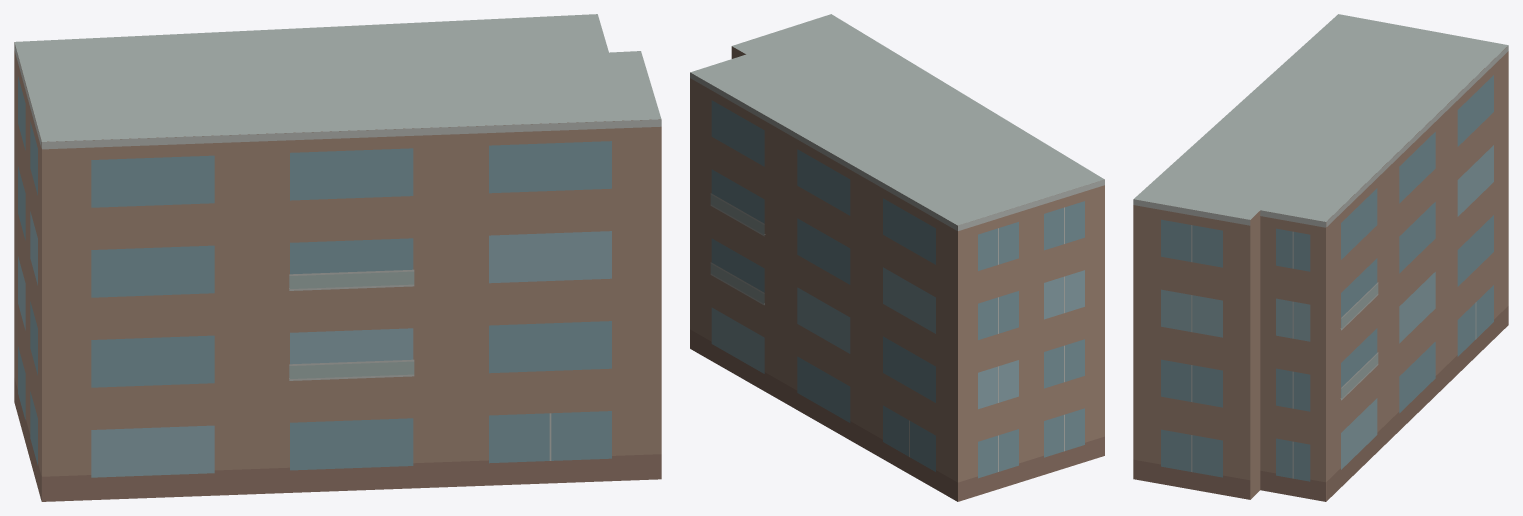
Rendered from survey-upis-32488505.glb.
3 renders of one model, left to right at view 1: azimuth 30°, elevation 25°; view 2: azimuth 150°, elevation 25°; view 3: azimuth 270°, elevation 25°, orthographic. The views are drawn at different scales.
Parts seen in each view (by area): view 1: survey-upis-32488505.tmp; view 2: survey-upis-32488505.tmp; view 3: survey-upis-32488505.tmp.
Part boxes in pixels (box(x1,y1,x2,y2)): survey-upis-32488505.tmp: box(14, 14, 661, 501); survey-upis-32488505.tmp: box(690, 14, 1104, 501); survey-upis-32488505.tmp: box(1133, 14, 1508, 501).
Size of the model in its own units: 18.81 by 11.8 by 14.34.
